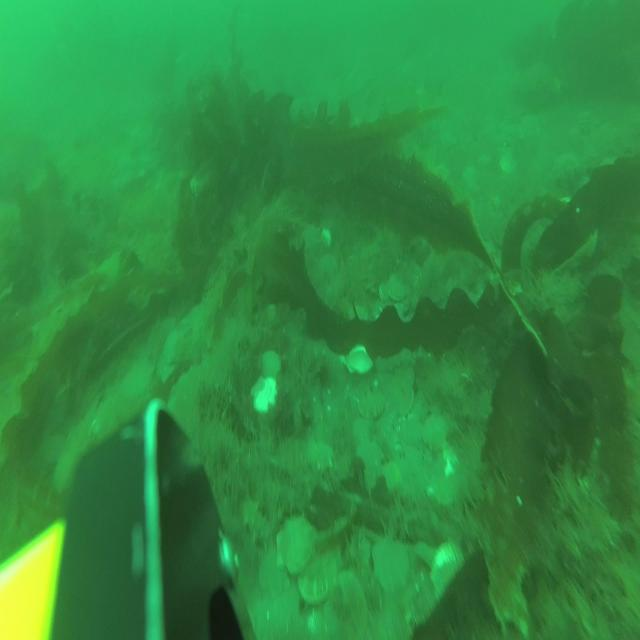holothurian: (239, 492, 275, 555)
scallop: (274, 510, 315, 578), (371, 534, 412, 594), (297, 546, 339, 602), (432, 538, 465, 598), (248, 372, 280, 417), (352, 438, 386, 478), (341, 341, 375, 378), (420, 414, 451, 454), (308, 435, 336, 475), (358, 392, 387, 424), (162, 327, 186, 364), (392, 383, 416, 419), (260, 348, 282, 382), (387, 272, 409, 303), (317, 251, 339, 279), (399, 363, 415, 392), (499, 152, 518, 176), (376, 281, 390, 303)
